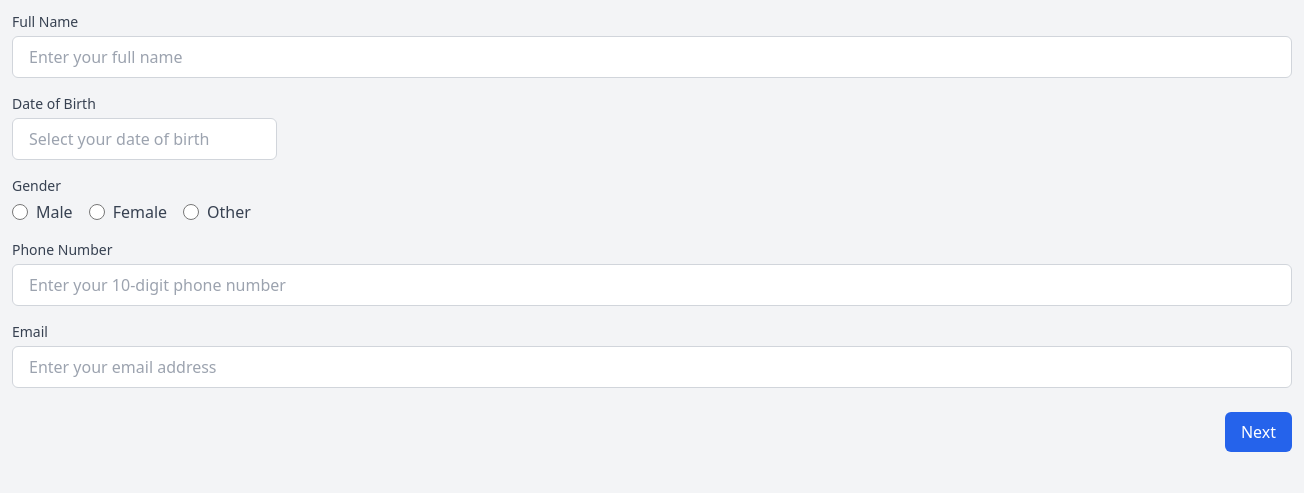
Test: PersonalDetailsForm › clicking Next with an empty date shows "Date of birth is required"
Type "Jane Doe" into the field labelled "Full Name". click: (652, 57)
box: [12, 36, 1292, 78]
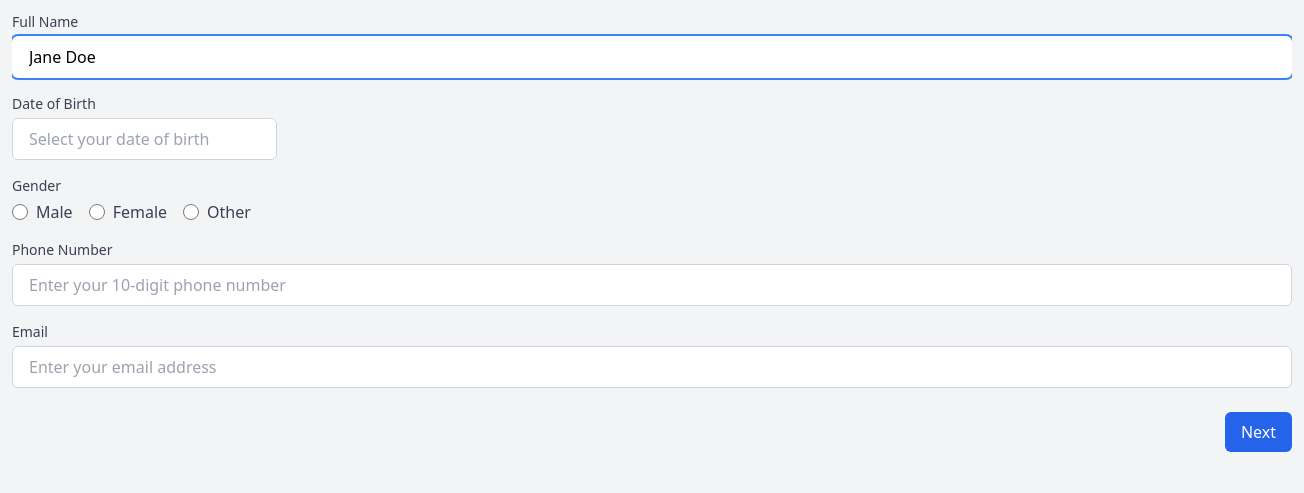
Click the radio button labelled "Other". click: (191, 212)
box: [183, 204, 199, 220]
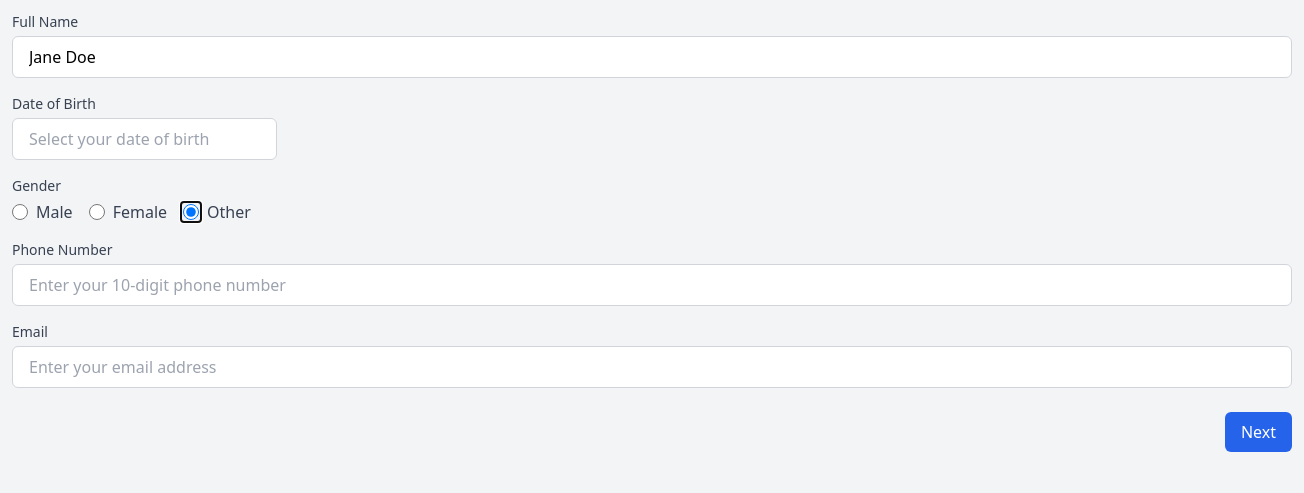
Type "0123456789" into the field labelled "Phone Number". click: (652, 285)
box: [12, 264, 1292, 306]
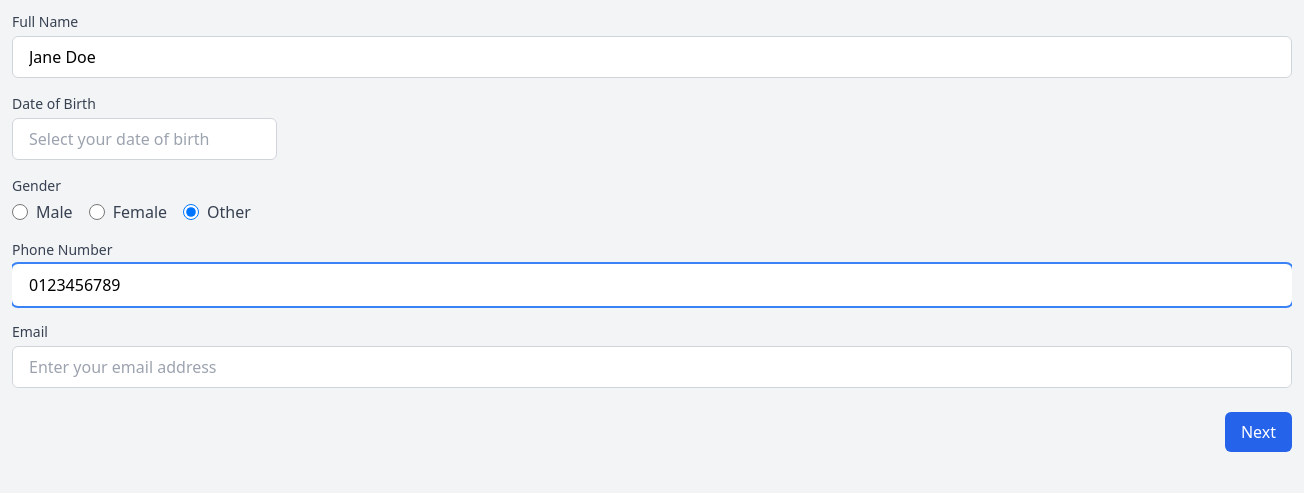
Type "jane@example.com" into the field labelled "Email". click: (652, 367)
box: [12, 346, 1292, 388]
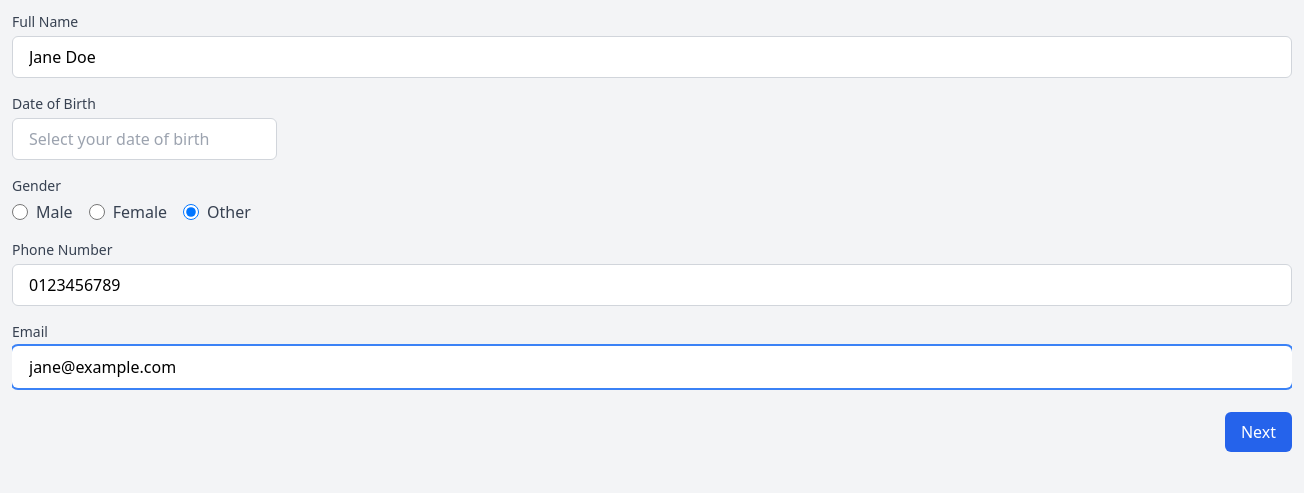
Click the button "Next". click: (1258, 432)
box: [1225, 412, 1292, 452]
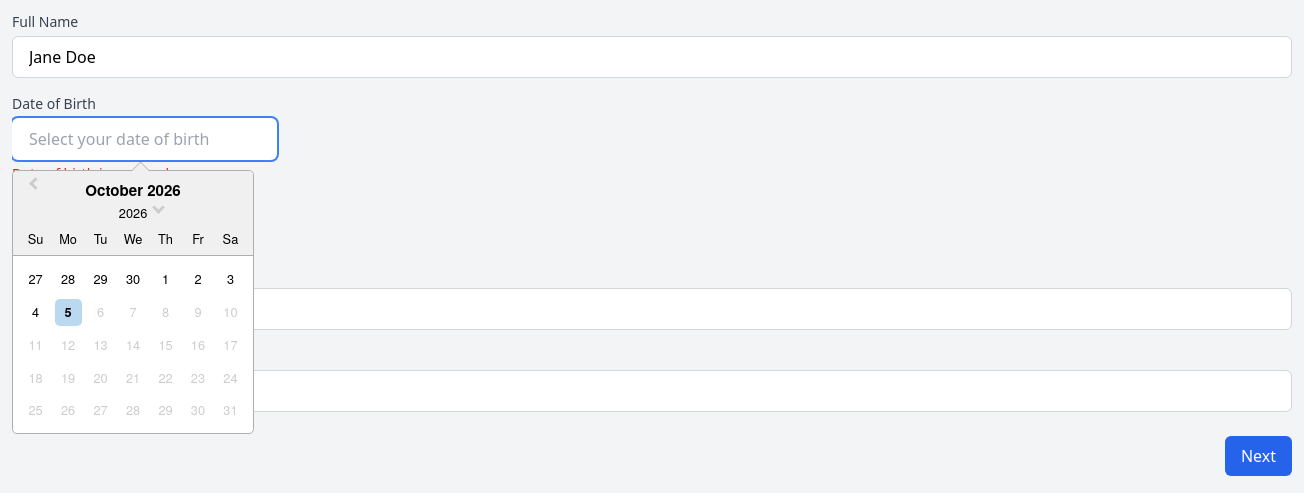
Now the text "Date of birth is required" is shown, box [12, 164, 169, 183]
